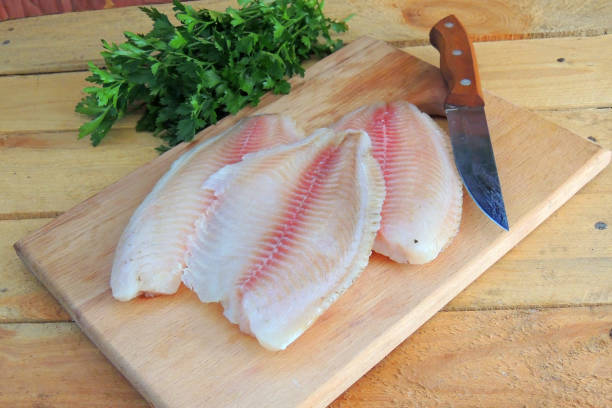bream-fish: (182, 128, 386, 352)
